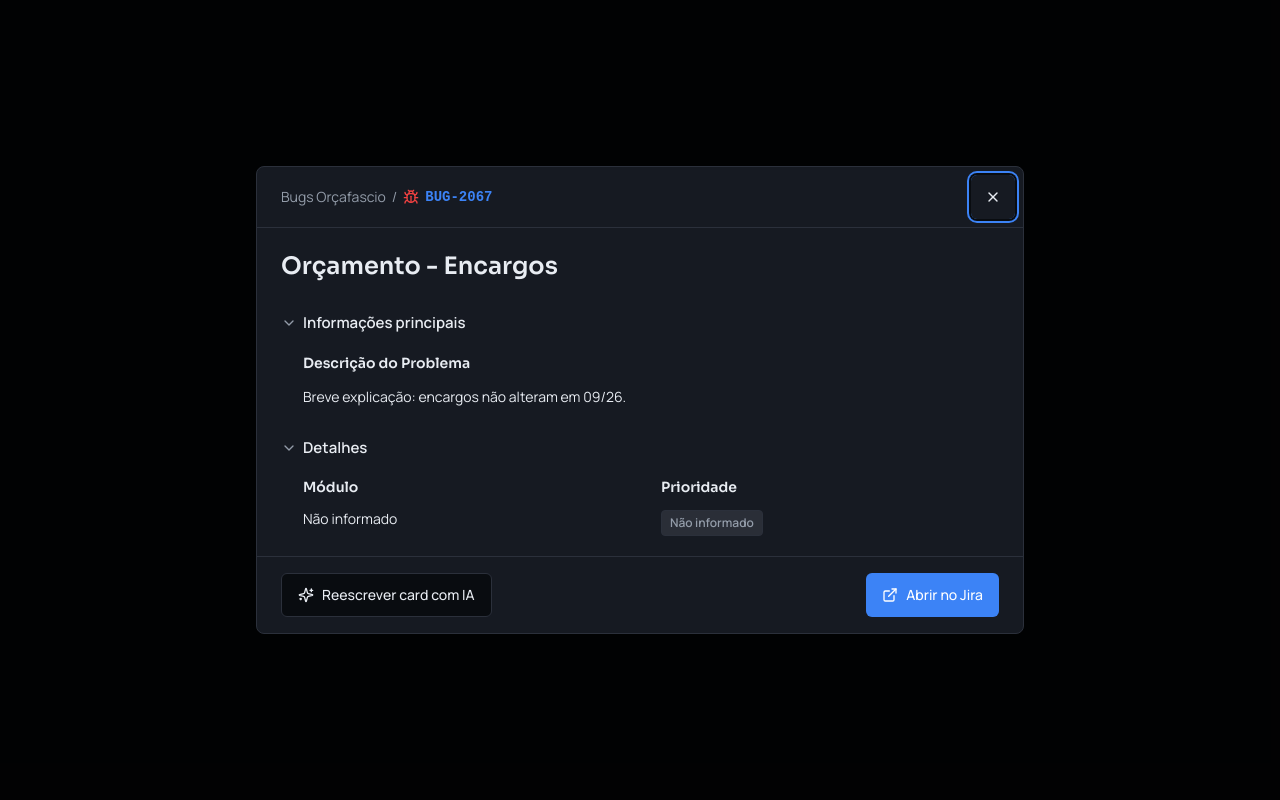
Scenario: Modal do card com reescrita › avisa que o navegador está esperando permissão quando a ponte não responde
The width and height of the screenshot is (1280, 800).
Click the button "Reescrever card com IA": (386, 595) [281,573,492,617]
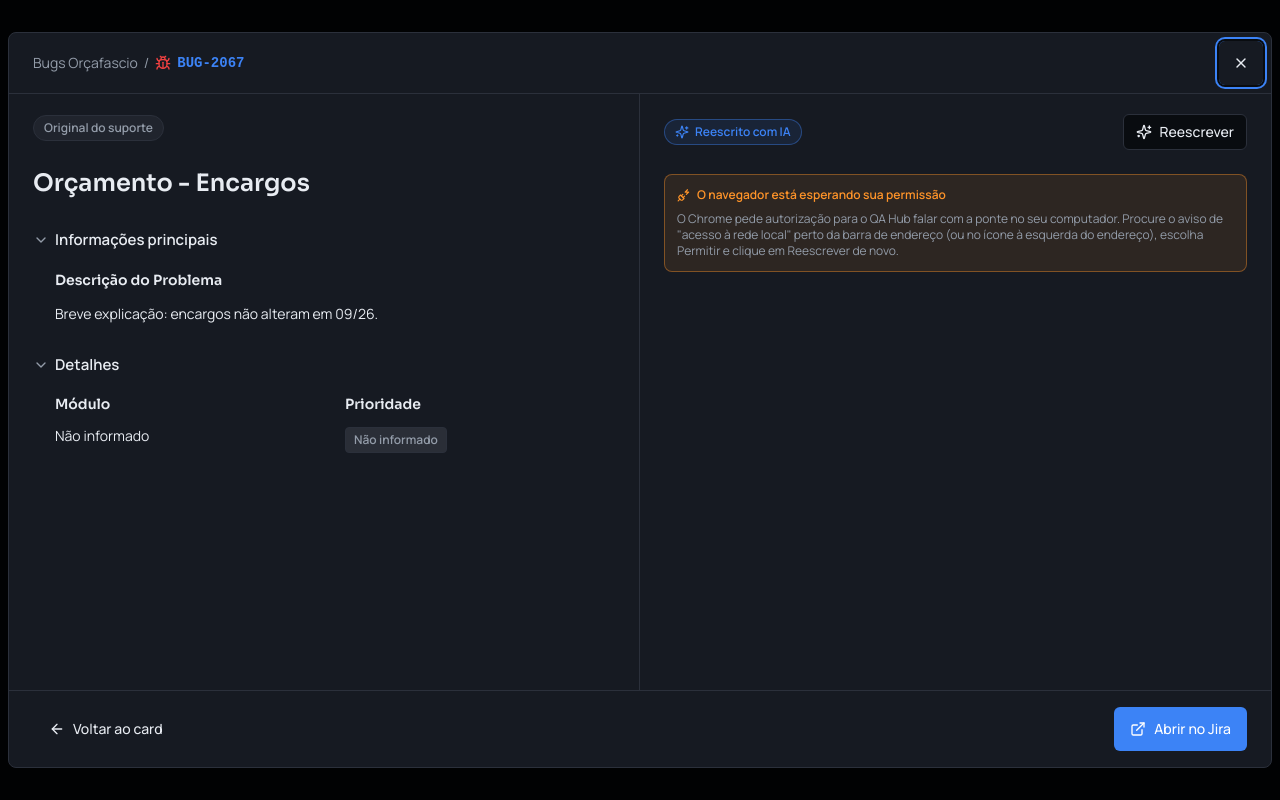
Check: the element named "Card original" is shown, box [9,94,640,690]
Check: the text "O navegador está esperando sua permissão" is shown, box [677,186,946,203]
